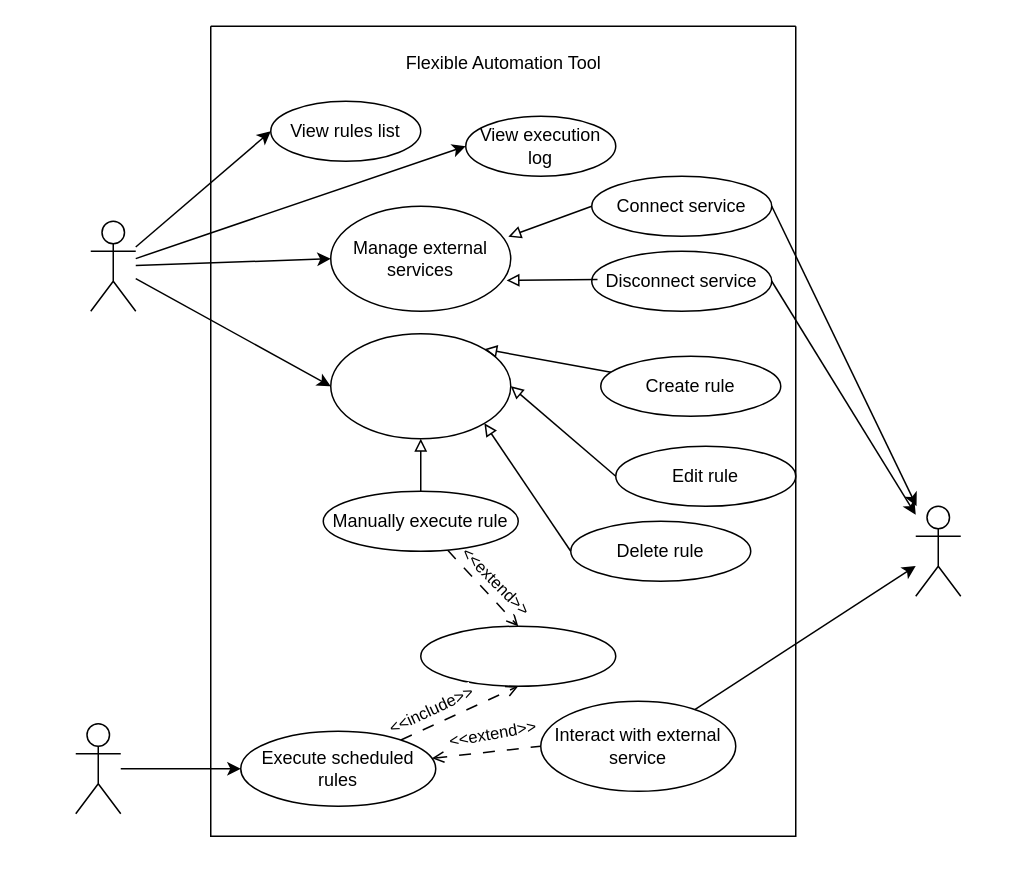
Some shapes in this 1028 by 872 pixel diagram are drawn without their labels. Each missing label, with the box of its shape:
Execute rule: (419, 625, 616, 686)
External service: (914, 505, 961, 596)
Manage automation rules: (329, 332, 511, 439)
System Scheduler: (74, 722, 121, 814)
User: (89, 220, 136, 311)
